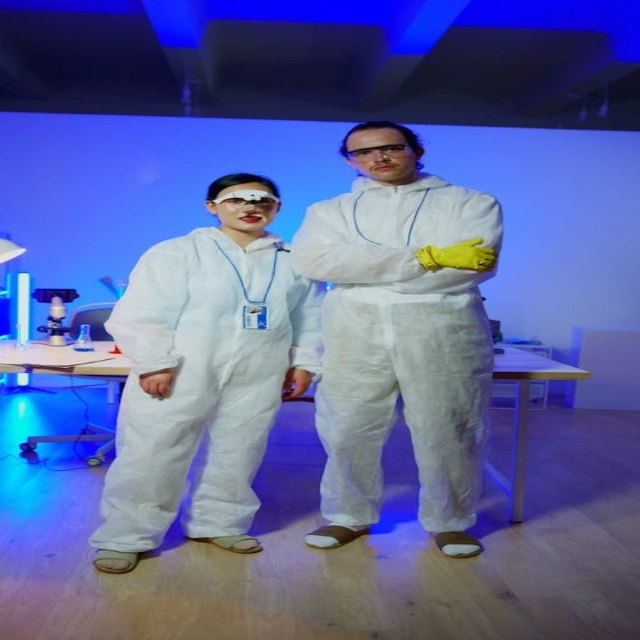Gafas: (345, 144, 414, 160), (214, 197, 279, 209)
Guantes: (418, 237, 497, 272)
Sin_guantes: (133, 367, 180, 399), (283, 364, 316, 403)
Sin_mascara: (366, 162, 402, 179), (233, 213, 262, 228)
